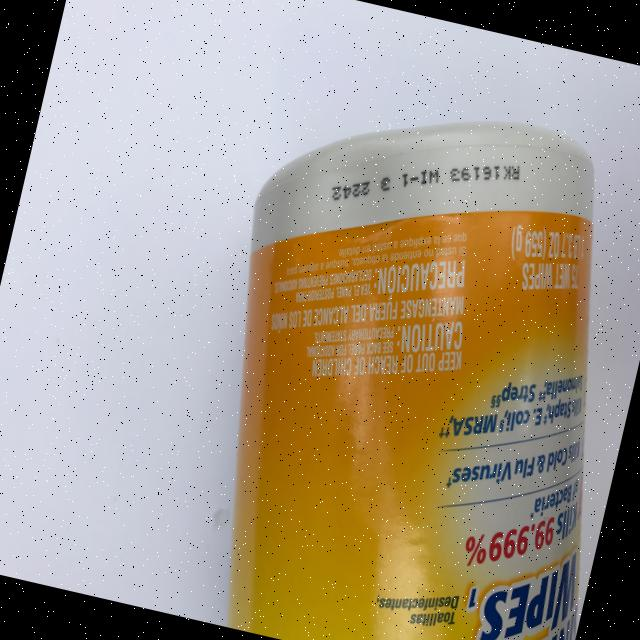plastic: (158, 65, 640, 640)
